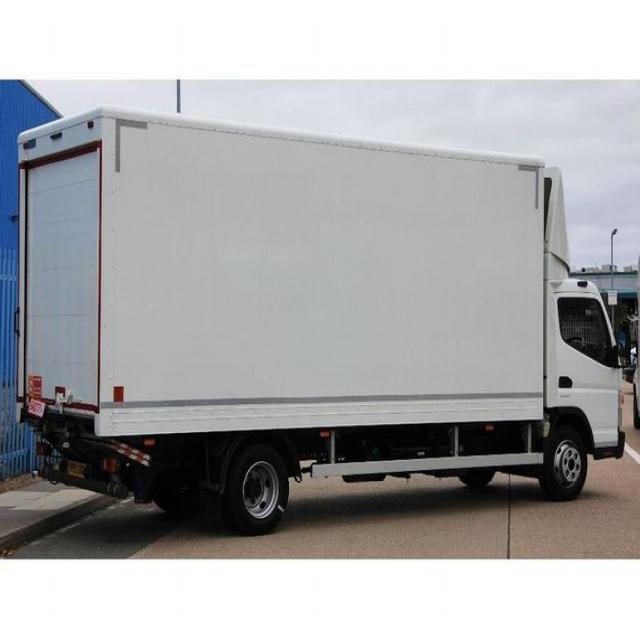bicycle: (14, 105, 625, 527)
